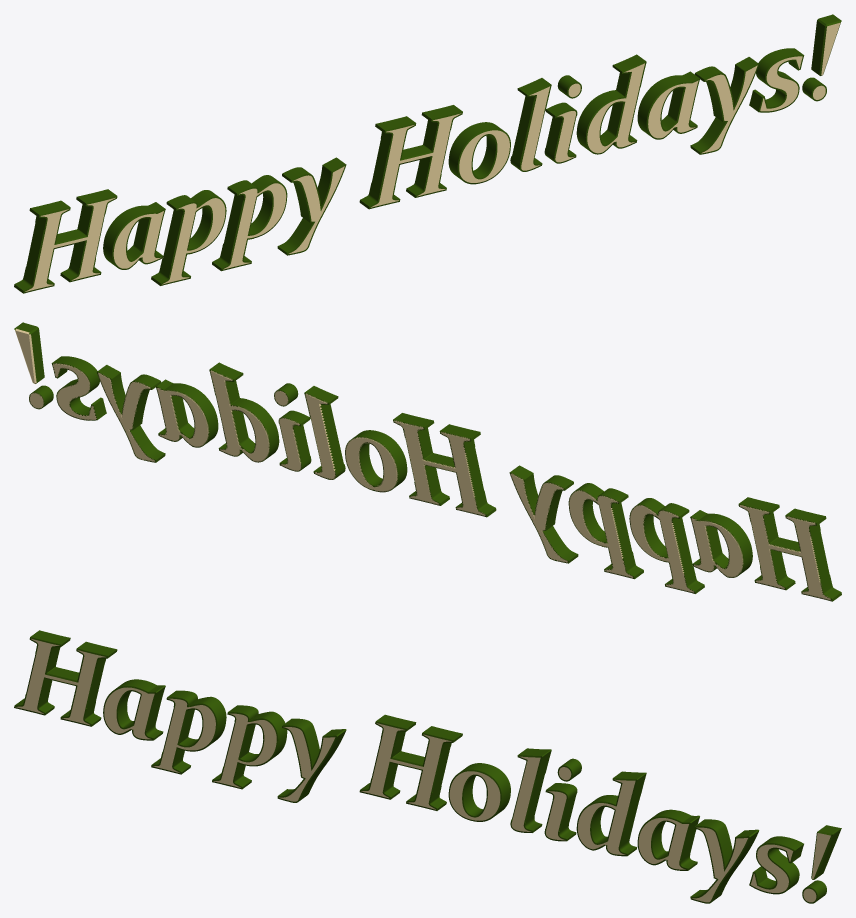
File: holiday Sign.glb
3 views of the same model, one above another, from view 1: azimuth 30°, elevation 25°; view 2: azimuth 150°, elevation 25°; view 3: azimuth 330°, elevation 25° (orthographic).
Parts seen in each view (by area): view 1: geo1; view 2: geo1; view 3: geo1.
Boxes of the visible parts, x1,y1,x2,y2 form: geo1: (14, 14, 841, 293); geo1: (14, 322, 841, 601); geo1: (14, 630, 841, 903).
Bounding box in the file's own units: 14.08 × 1.76 × 0.283.
